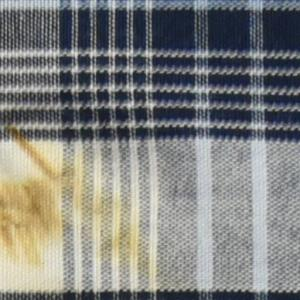Oil Stain: (1, 115, 183, 300)
